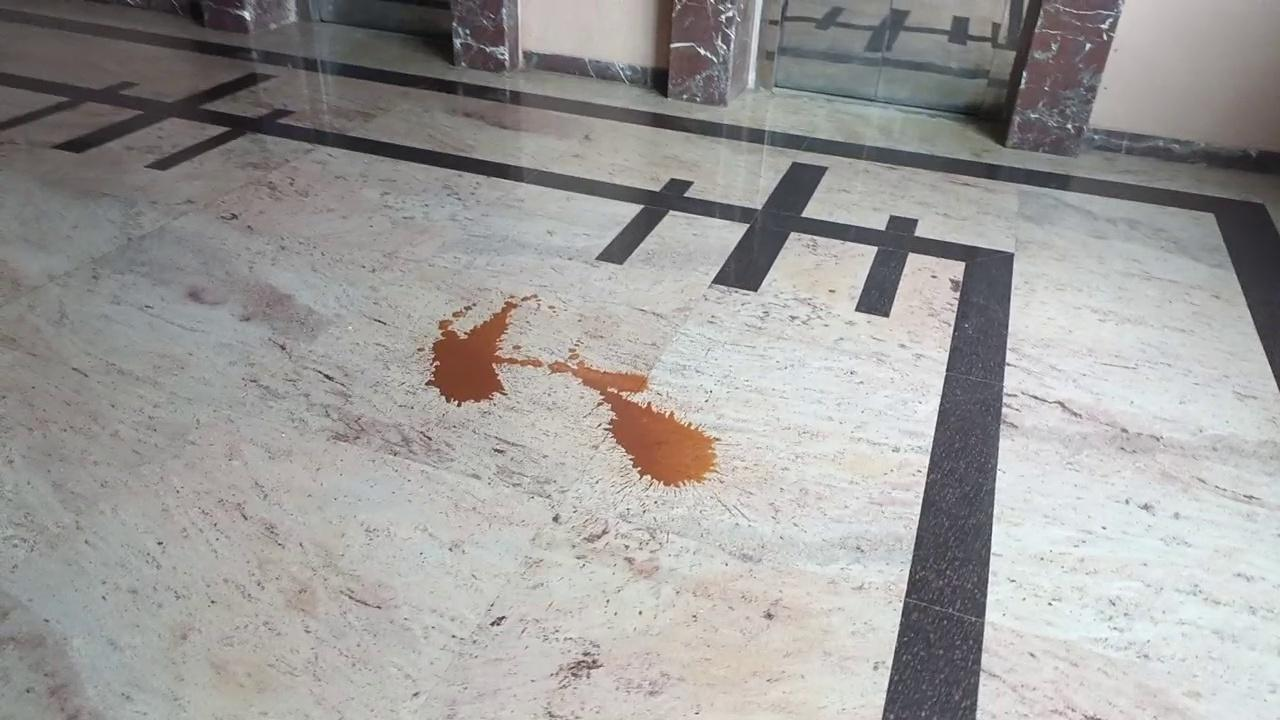dirty_floor: (428, 289, 721, 493)
